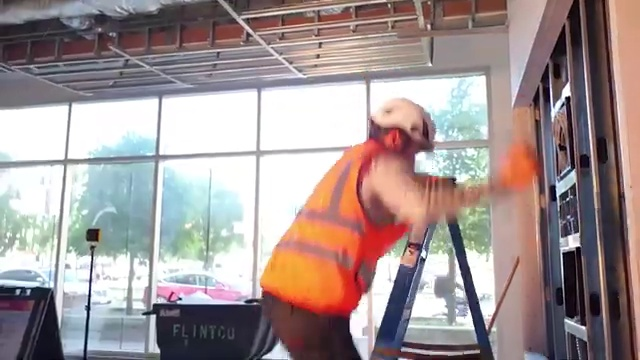helmet: (364, 83, 449, 145)
jacket: (267, 144, 404, 330)
